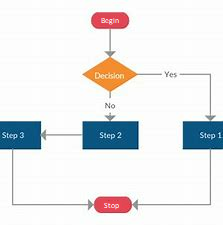arrow: (11, 147, 95, 210), (131, 147, 212, 210), (137, 72, 217, 121), (39, 128, 84, 141), (103, 90, 119, 121), (103, 29, 118, 60)
decision: (81, 56, 138, 93)
process: (81, 120, 140, 151), (1, 120, 42, 151), (182, 120, 223, 151)
terminator: (90, 11, 130, 30), (93, 196, 133, 214)
text: (94, 70, 125, 81), (198, 131, 223, 142), (1, 130, 26, 140), (98, 130, 122, 140), (100, 16, 121, 25), (102, 202, 120, 210), (164, 70, 178, 79), (104, 102, 116, 109)
